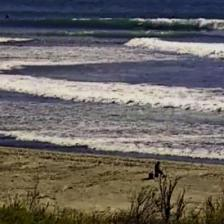surfer: (4, 14, 10, 20)
